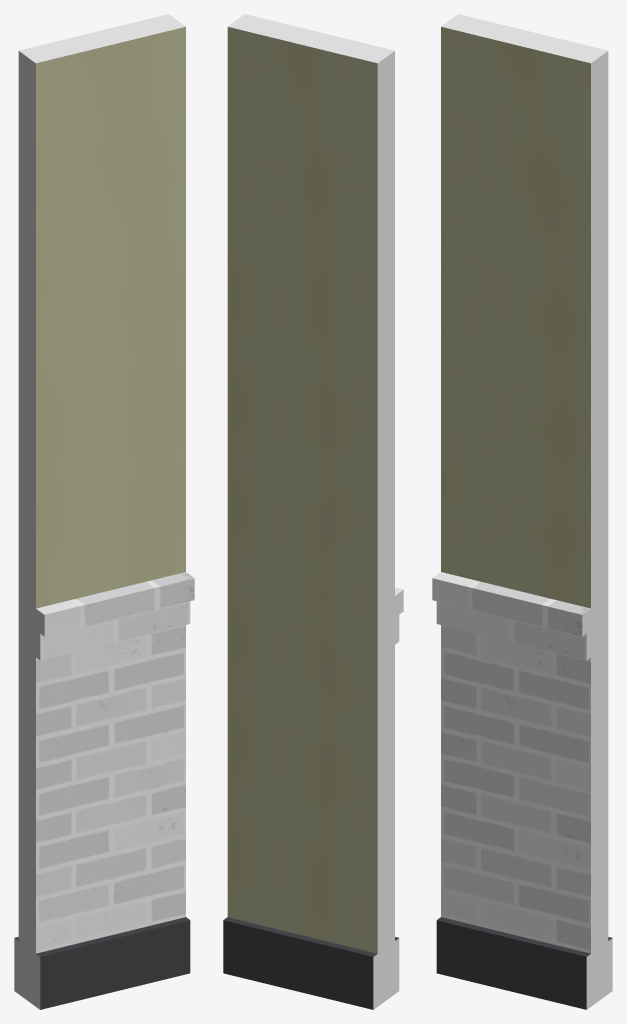
File: SM_Buildings_Wall_HALFx3_01_WallpaperBack.fbx
3 renders of one model, left to right at view 1: azimuth 30°, elevation 25°; view 2: azimuth 150°, elevation 25°; view 3: azimuth 330°, elevation 25°, orthographic.
Parts seen in each view (by area): view 1: SM_Buildings_Wall_HALFx3_01_WallpaperBack; view 2: SM_Buildings_Wall_HALFx3_01_WallpaperBack; view 3: SM_Buildings_Wall_HALFx3_01_WallpaperBack.
Part boxes in pixels (x1,y1,x2,y2): SM_Buildings_Wall_HALFx3_01_WallpaperBack: [14, 14, 194, 1009]; SM_Buildings_Wall_HALFx3_01_WallpaperBack: [223, 14, 403, 1009]; SM_Buildings_Wall_HALFx3_01_WallpaperBack: [432, 14, 612, 1009].
Bounding box in the file's own units: 50 × 300 × 17.5.
Materials: 1 (1 with a texture image).
